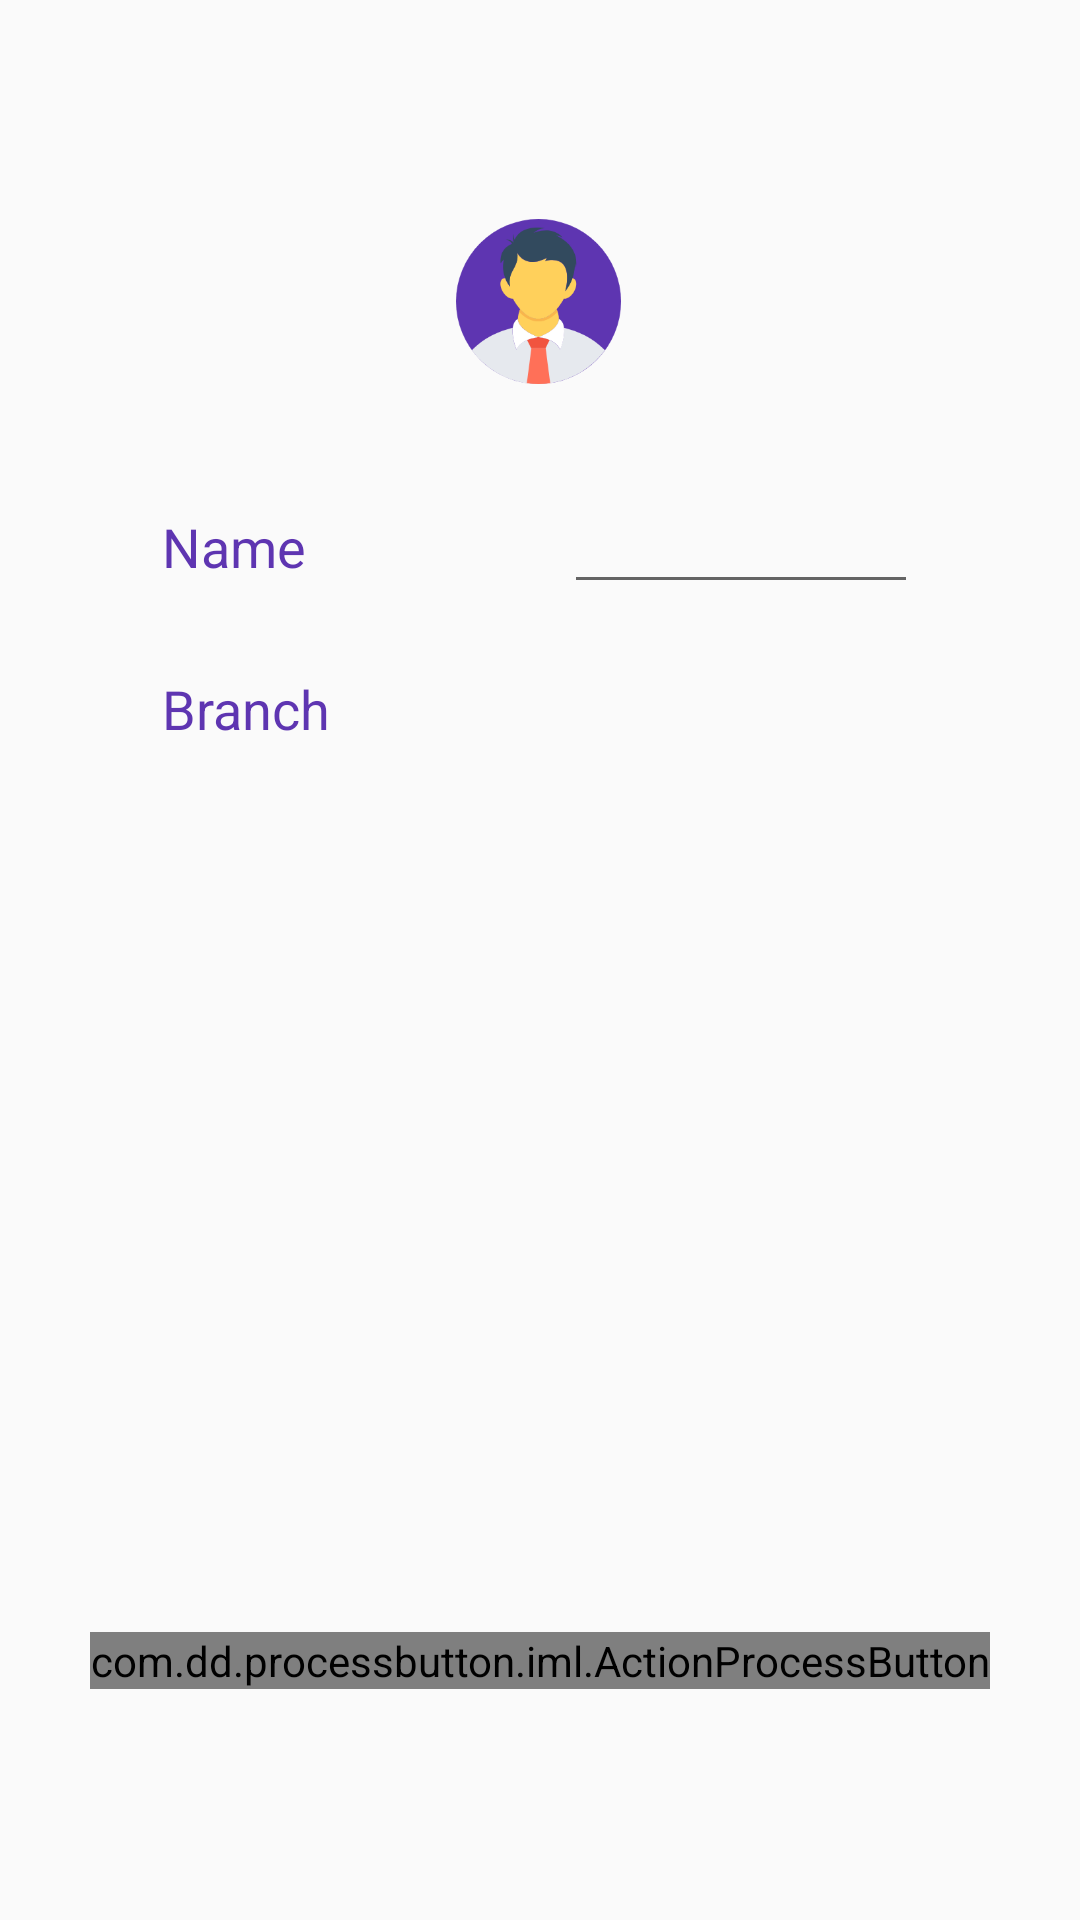

Icon bounding boxes for this 1080px x 1920px phone screenshot, format (x1, y1, x2, y2):
user profile: (456, 219, 621, 384)
